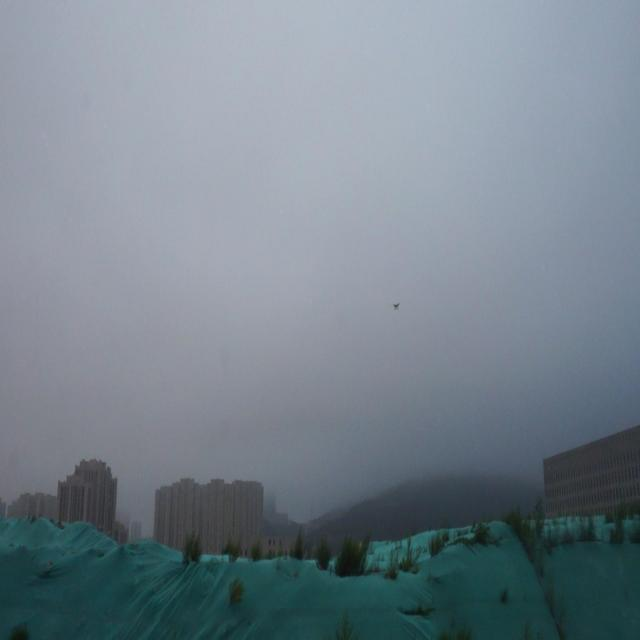UAV: (393, 304, 400, 310)
